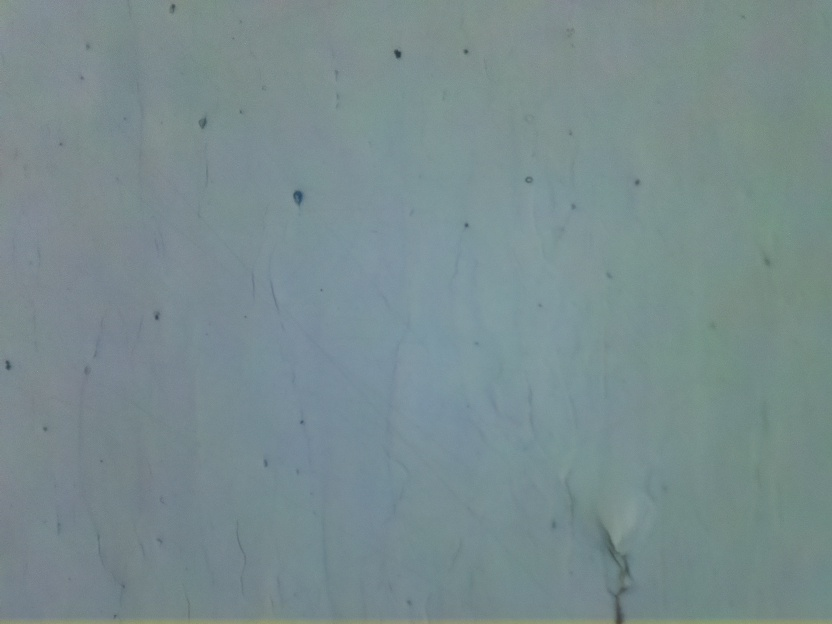crack: (600, 521, 639, 624)
